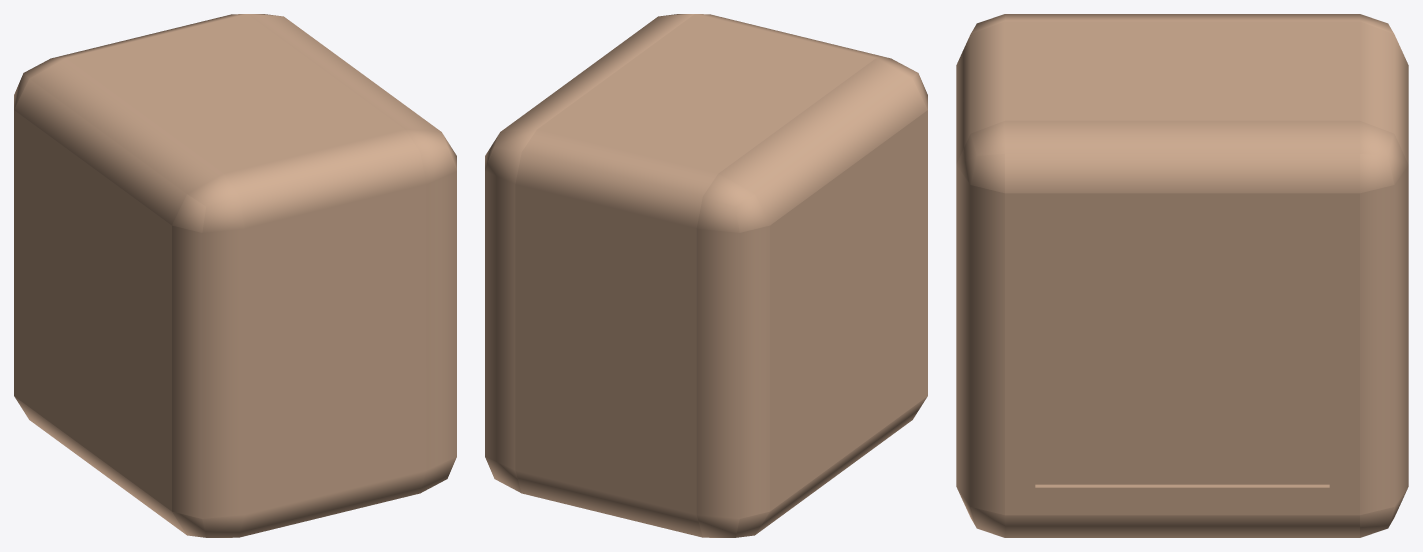
Rendered from button.fbx.
The picture shows the model from 3 angles, left to right: view 1: azimuth 30°, elevation 25°; view 2: azimuth 150°, elevation 25°; view 3: azimuth 270°, elevation 25°; orthographic projection. The views are drawn at different scales.
Parts seen in each view (by area): view 1: NUM0; view 2: NUM0; view 3: NUM0.
Part boxes in pixels (x1,y1,x2,y2): NUM0: (14, 14, 456, 537); NUM0: (485, 14, 927, 537); NUM0: (956, 14, 1408, 537).
Size of the model in its own units: 5.65 by 6.89 by 6.89.
